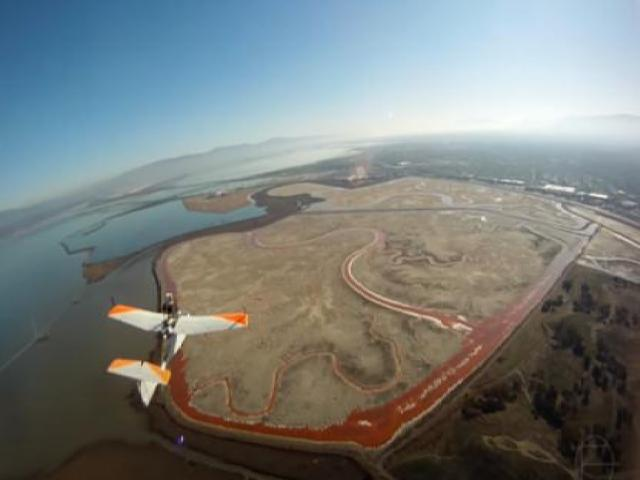uav: (103, 295, 248, 411)
